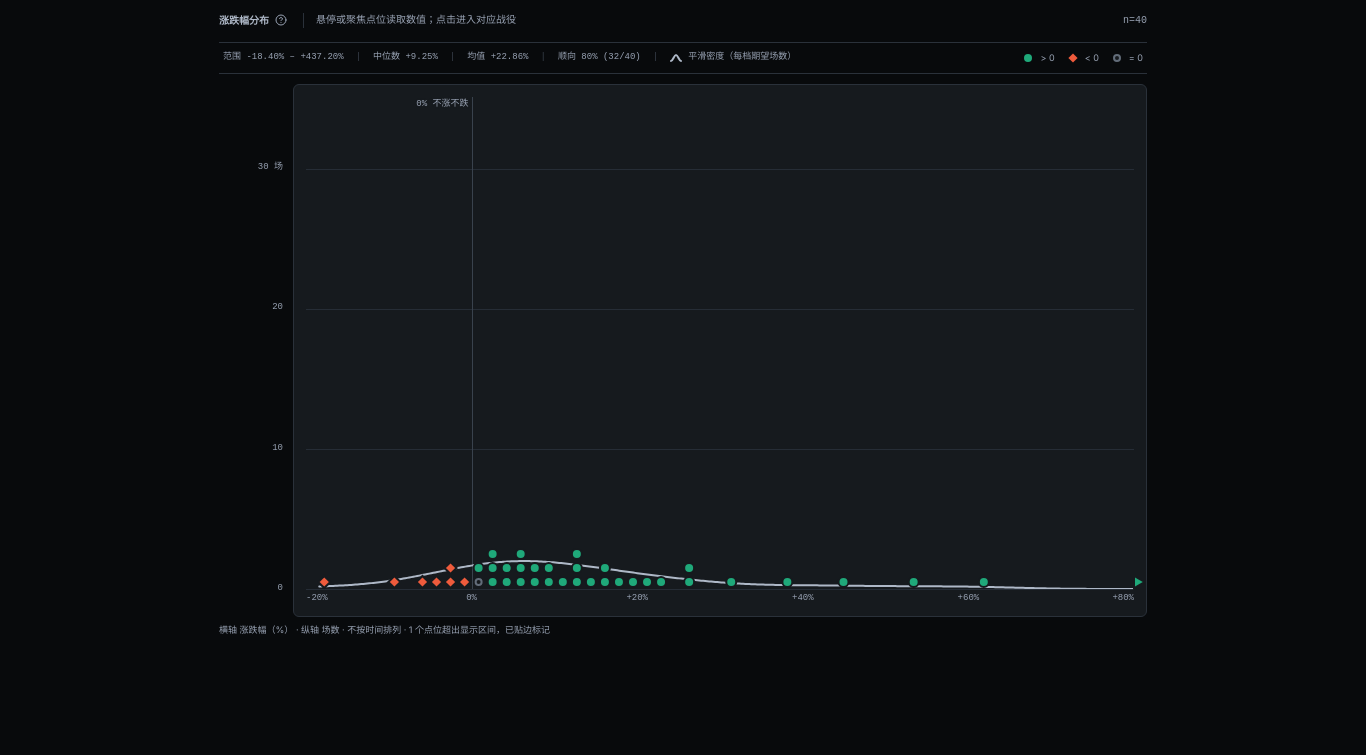
Test: 通用连续指标的分布图 › 涨跌幅：0% 线叫「不涨不跌」，刻度去掉小数尾零，摘要报「顺向」
Expected: the element with test id "campaign-metric-summary-mainPriceChangeDistribution" shows "范围 -18.40% – +437.20%", [223,51,796,64]
Expected: the text "横轴 涨跌幅（%） · 纵轴 场数 · 不按时间排列 · 1 个点位超出显示区间，已贴边标记" is shown, [219,623,550,637]
Click the button with test id "campaign-metric-guide-toggle-mainPriceChangeDistribution".
click(281, 20)  # box [271,10,291,30]
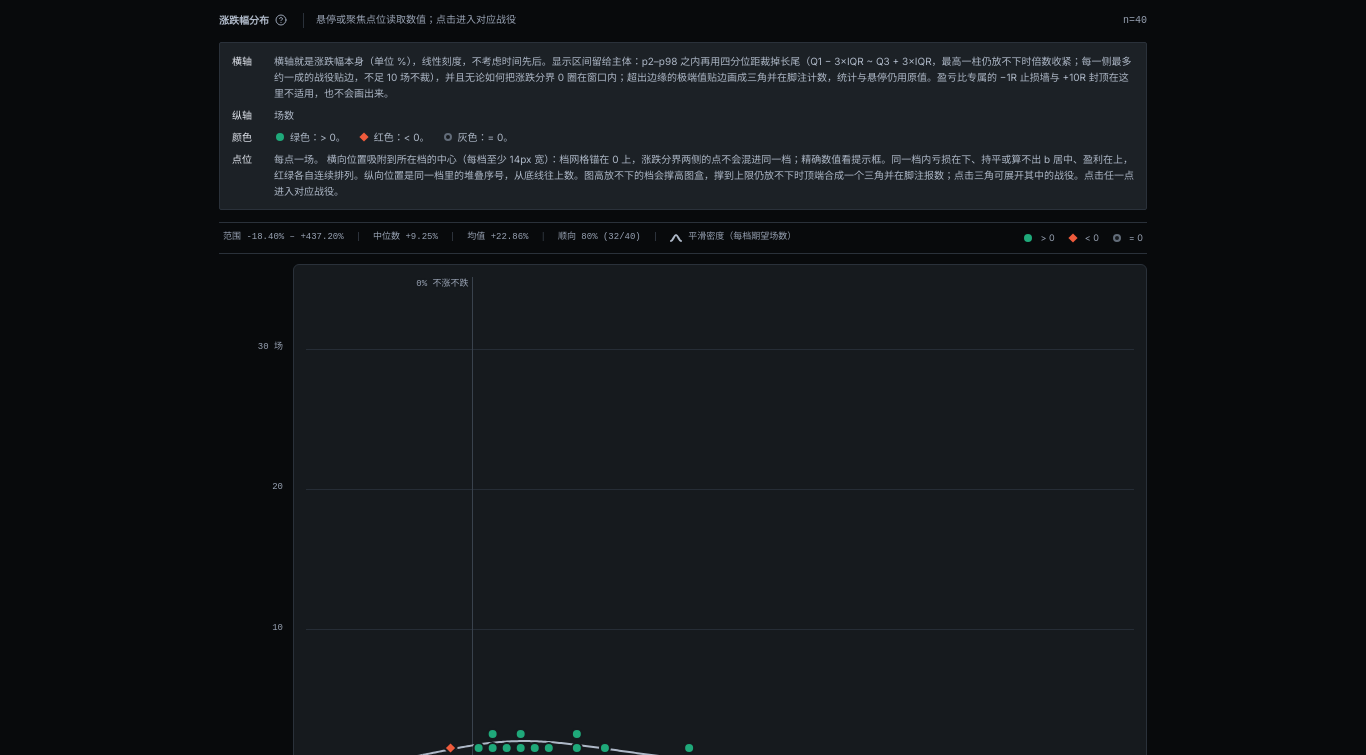
Expected: the element with test id "campaign-metric-guide-mainPriceChangeDistribution" shows "把涨跌分界 0 圈在窗口内", [219,42,1147,210]
Expected: the element with test id "campaign-metric-guide-mainPriceChangeDistribution" shows "档网格锚在 0 上，涨跌分界两侧的点不会混进同一档", [549,153,891,165]
